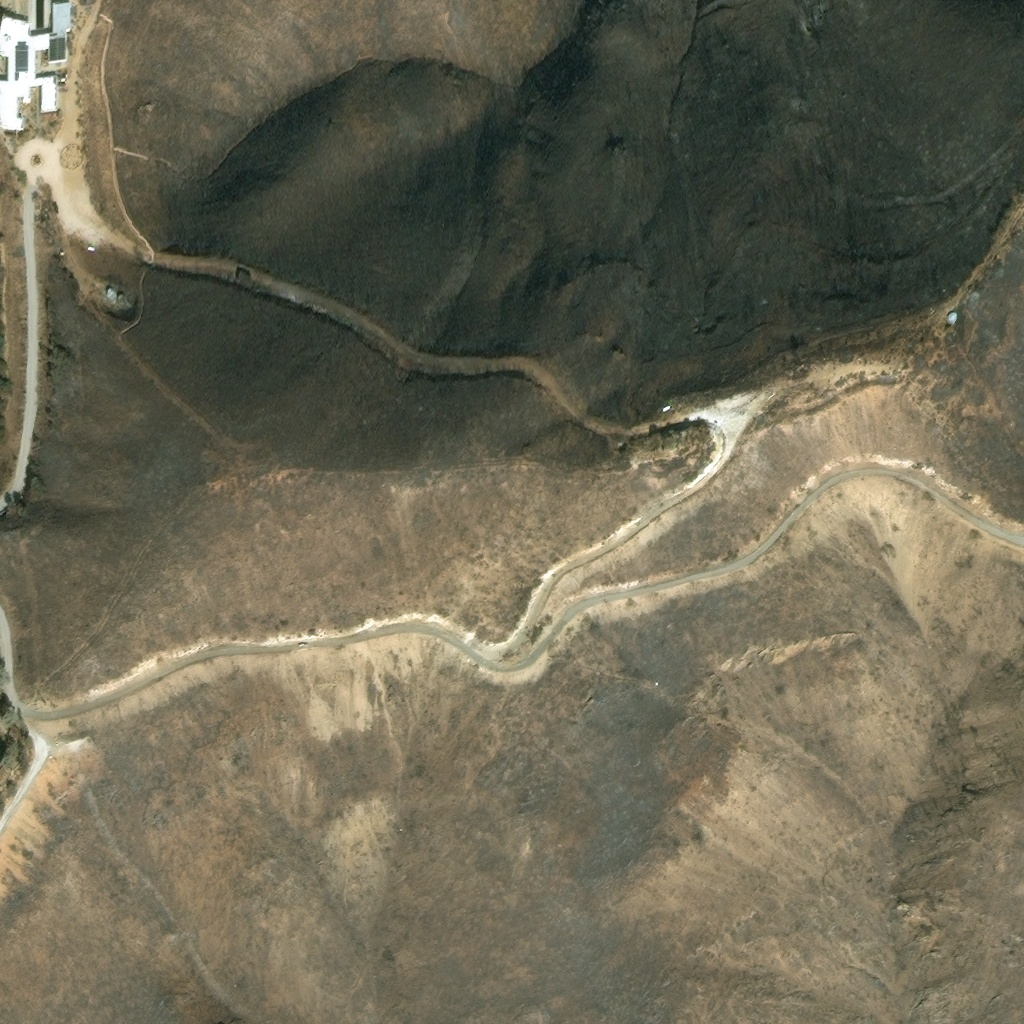0 no-damage: (944, 312, 959, 327), (661, 403, 671, 412), (108, 289, 114, 296)
1 minor-damage: (117, 294, 126, 302), (87, 247, 95, 252)
3 destroyed: (236, 271, 254, 288)
